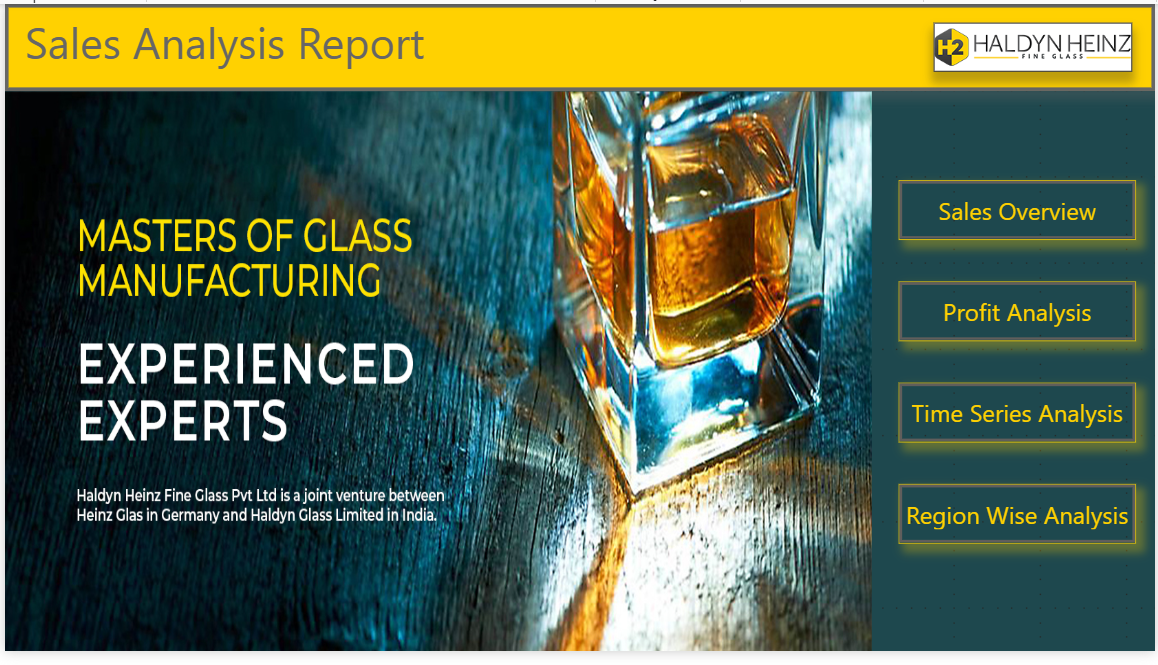

This screenshot's page, from the dashboard's own definition file:
{"tool":"powerbi","page":{"name":"Welcome Page","canvas":[1280,720],"ordinal":0},"visuals":[{"type":"textbox","box":[0,0,1280,97.2],"z":0},{"type":"image","box":[1033.5,21.3,220.4,54.5],"z":1000},{"type":"image","box":[0,97.2,964.7,623.4],"z":2000},{"type":"actionButton","box":[995.3,309.2,264.3,66.4],"z":3000},{"type":"actionButton","box":[995.3,196.3,264.3,66.4],"z":4000},{"type":"actionButton","box":[995.3,422,264.3,66.4],"z":5000},{"type":"actionButton","box":[995.3,534.9,264.3,66.4],"z":6000}]}

Visuals, with their boxes in screenshot pixels (x1, y1, x2, y2), scaled from the page's 1280x720 canvas onto the 1158x665 screenshot:
textbox: rect(0, 0, 1157, 90)
image: rect(935, 20, 1134, 70)
image: rect(0, 90, 873, 664)
actionButton: rect(900, 286, 1140, 347)
actionButton: rect(900, 181, 1140, 243)
actionButton: rect(900, 390, 1140, 451)
actionButton: rect(900, 494, 1140, 555)
